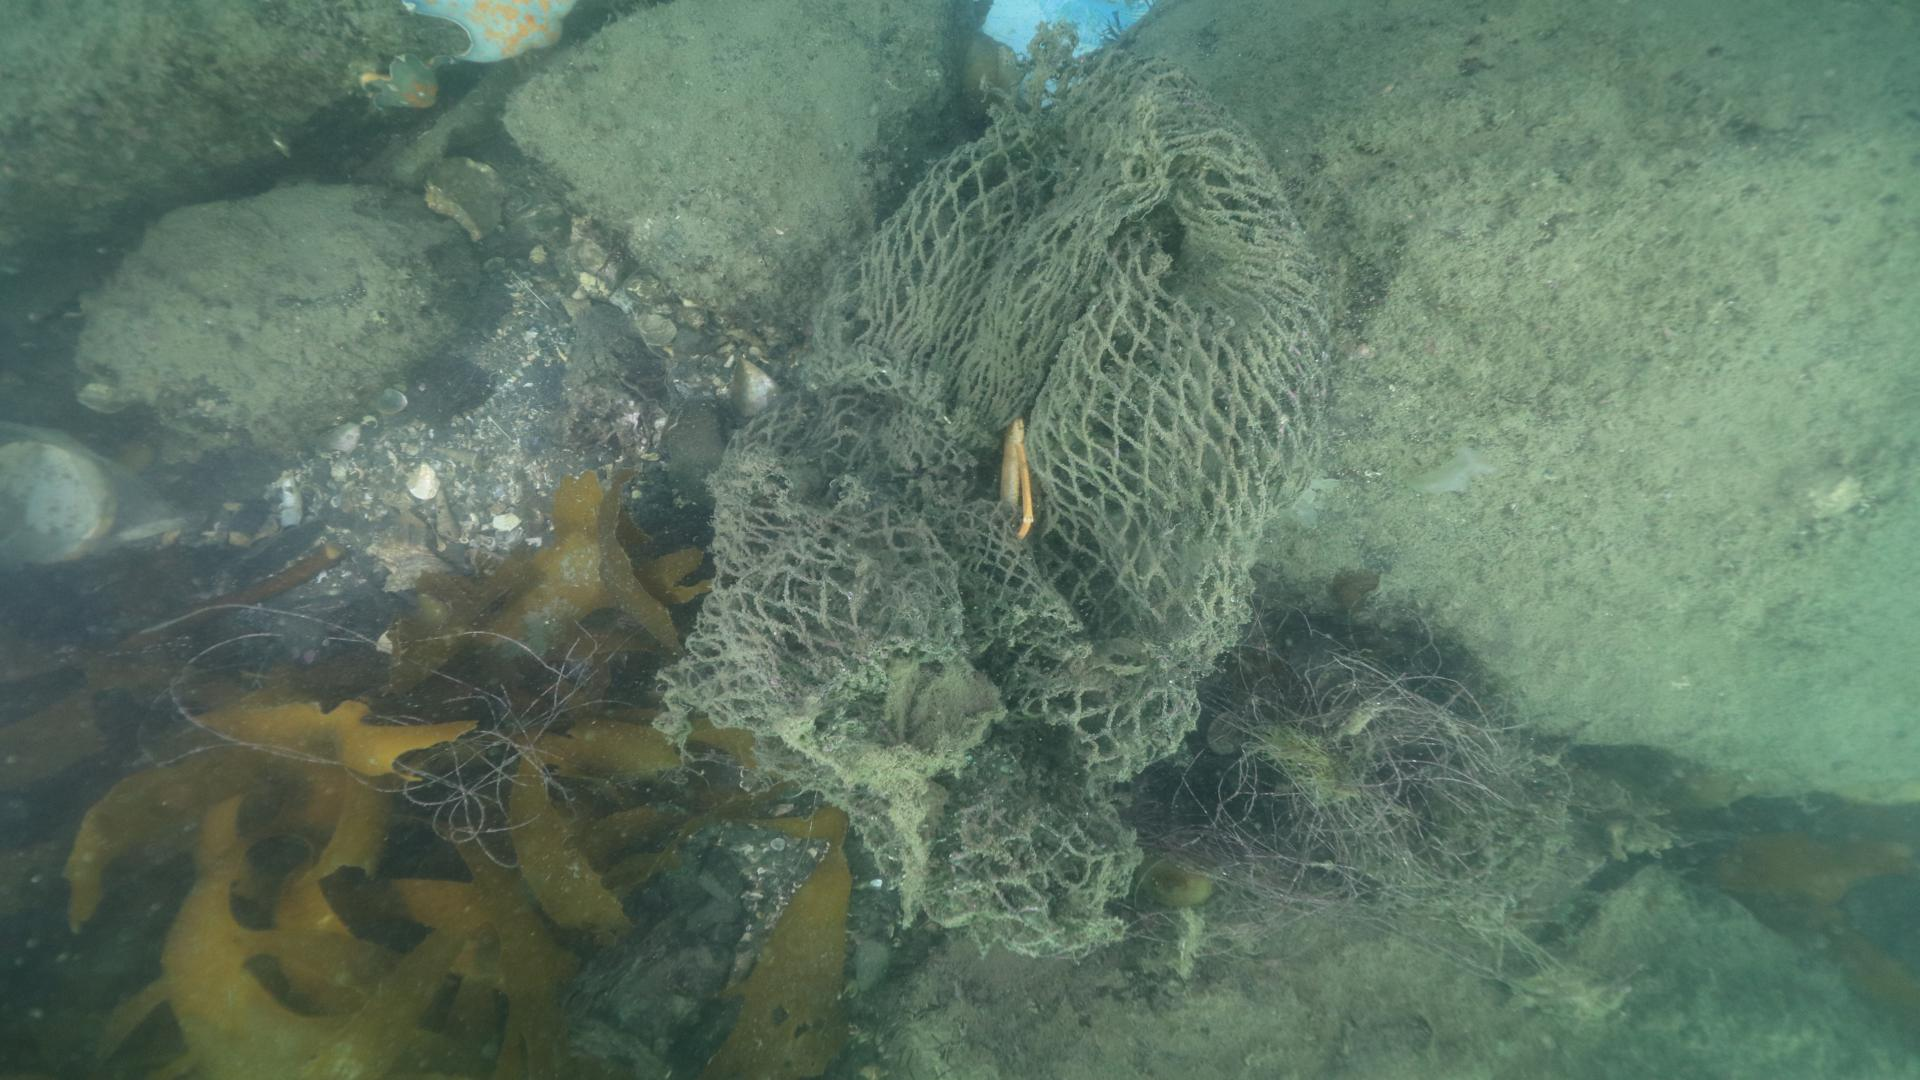fish net: (657, 50, 1329, 945)
